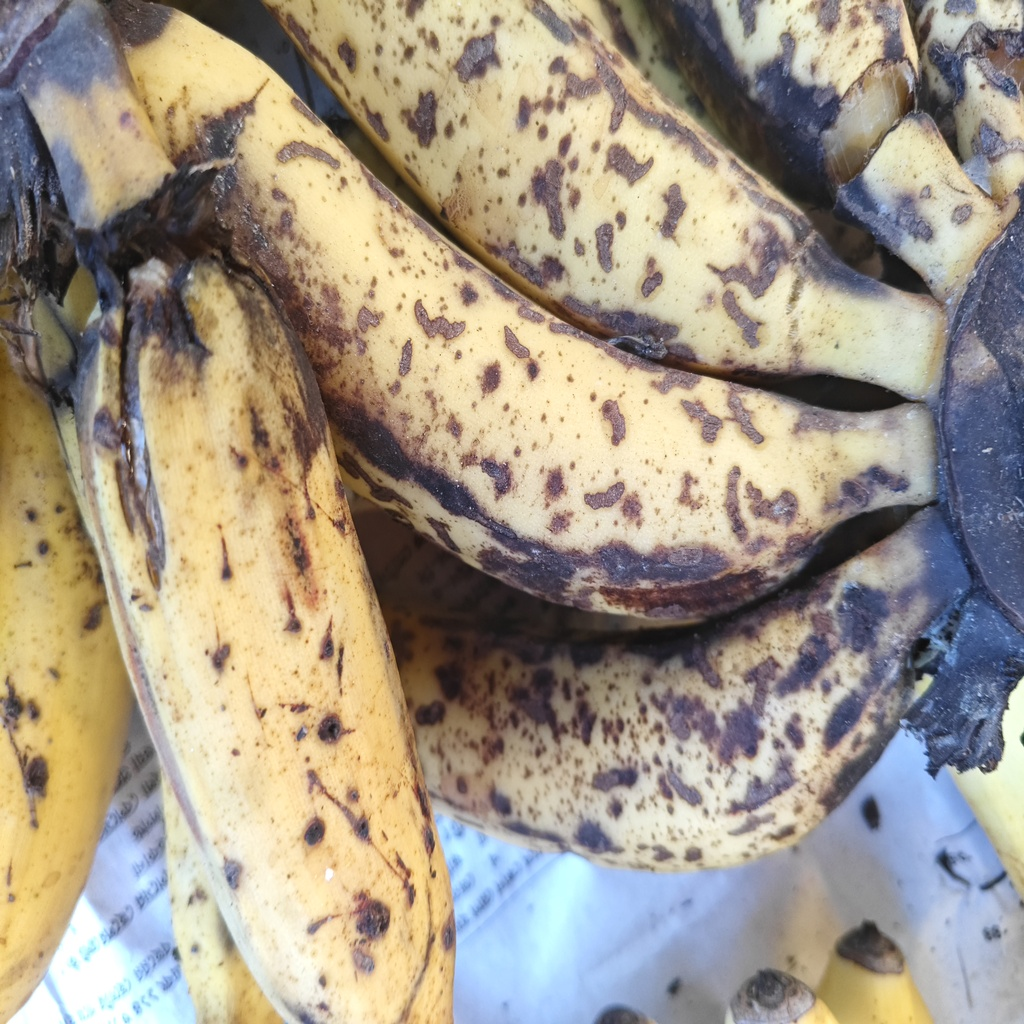unhealthy: (117, 1, 842, 615), (72, 287, 456, 1024), (271, 4, 822, 377)
